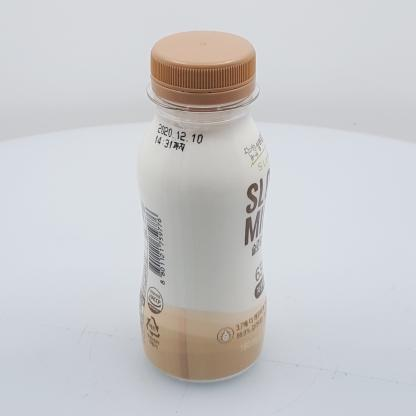----------180ML: (136, 30, 271, 383)
